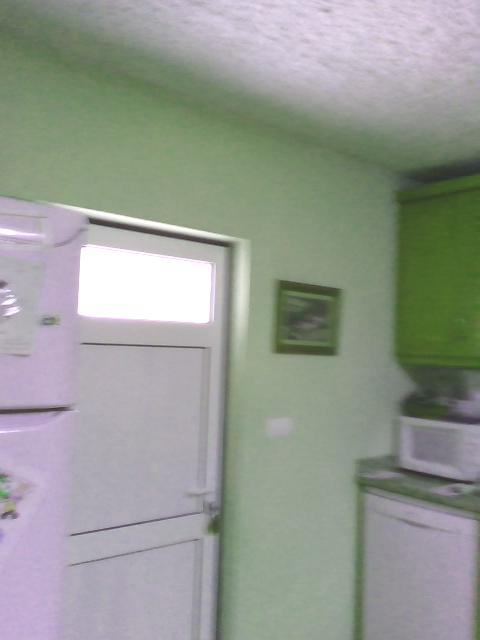closed_door: (33, 199, 240, 639)
